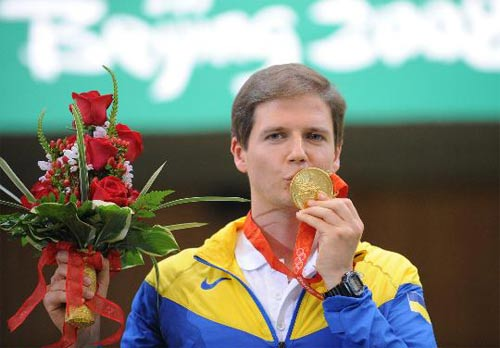face: (248, 97, 336, 204)
